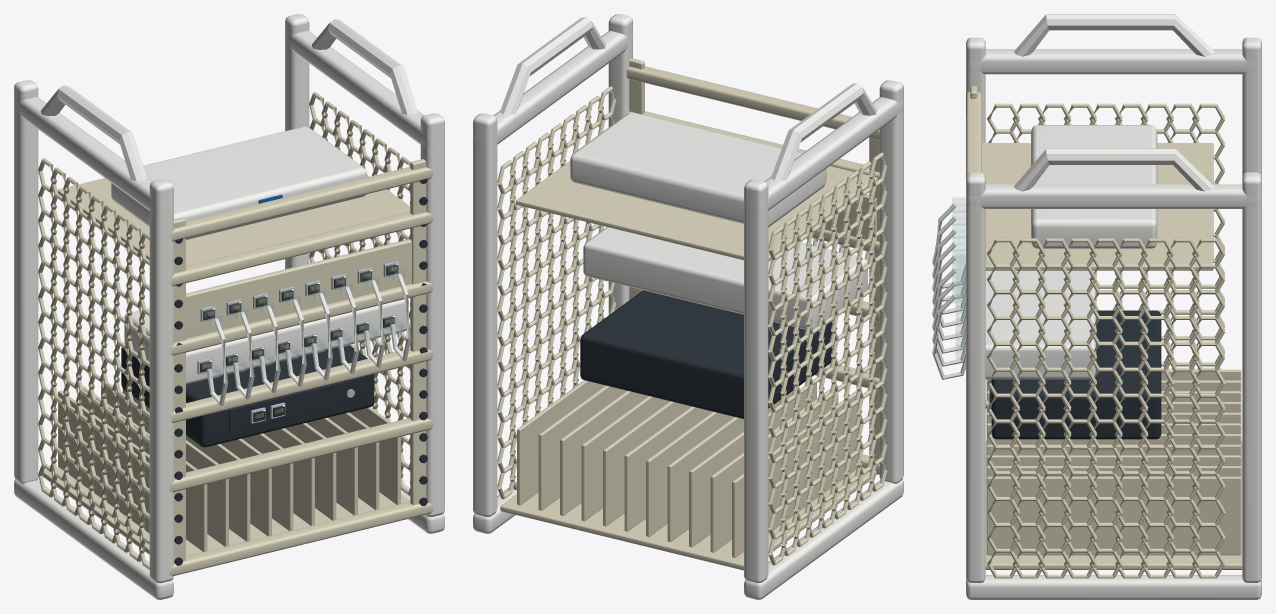
Rendered from mini-network-rack.glb.
The picture shows the model from 3 angles, left to right: view 1: azimuth 30°, elevation 25°; view 2: azimuth 150°, elevation 25°; view 3: azimuth 270°, elevation 25°; orthographic projection.
Parts seen in each view (by area): view 1: mini-network-rack authored assembly; view 2: mini-network-rack authored assembly; view 3: mini-network-rack authored assembly.
Part boxes in pixels (x1,y1,x2,y2): mini-network-rack authored assembly: (14,14,444,599); mini-network-rack authored assembly: (473,14,903,599); mini-network-rack authored assembly: (932,14,1261,599).
Bounding box in the file's own units: 0.31 × 0.45 × 0.3.
